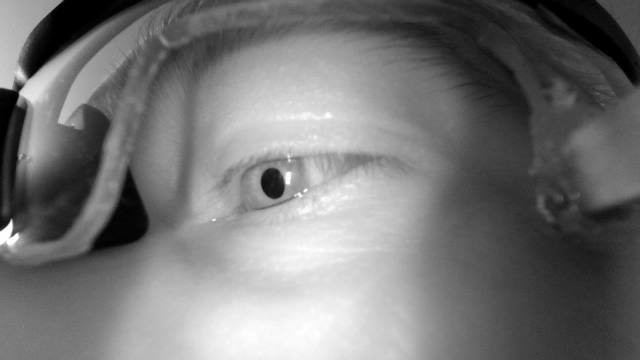pupil: (260, 167, 286, 200)
